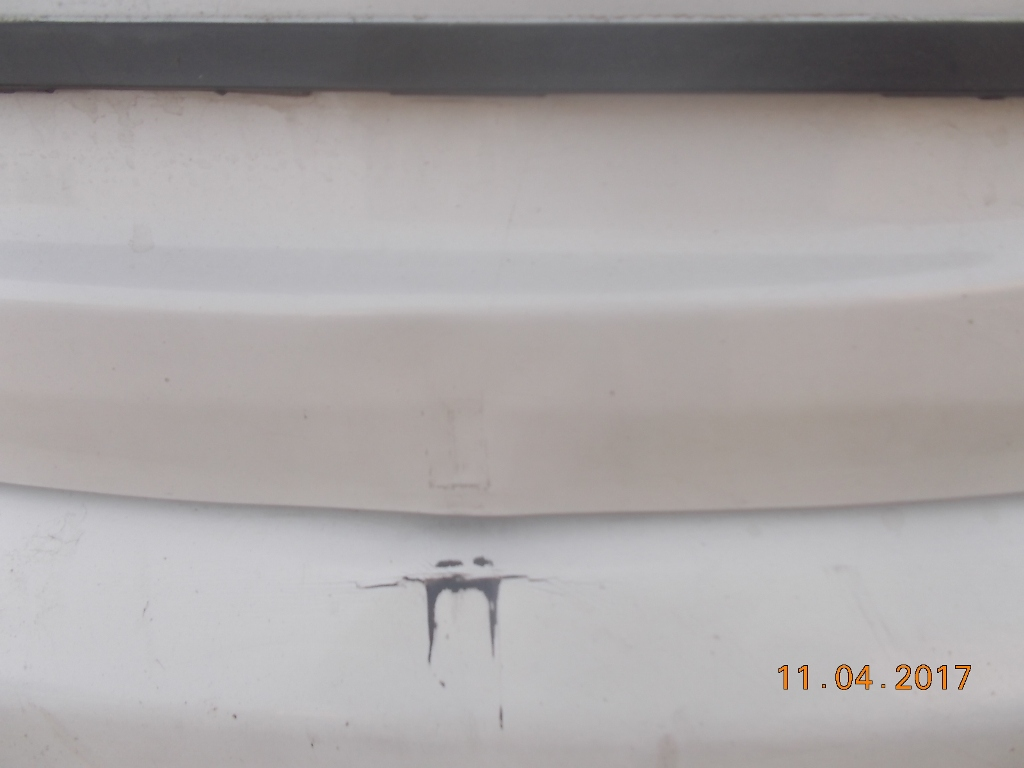Scratch_or_spot: (412, 553, 512, 652)
